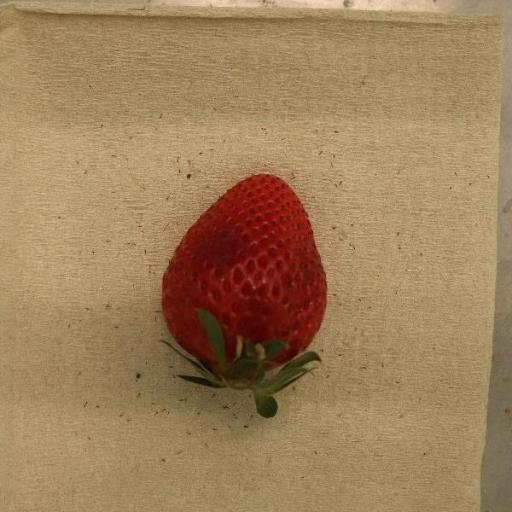Strawberry: (161, 174, 328, 420)
